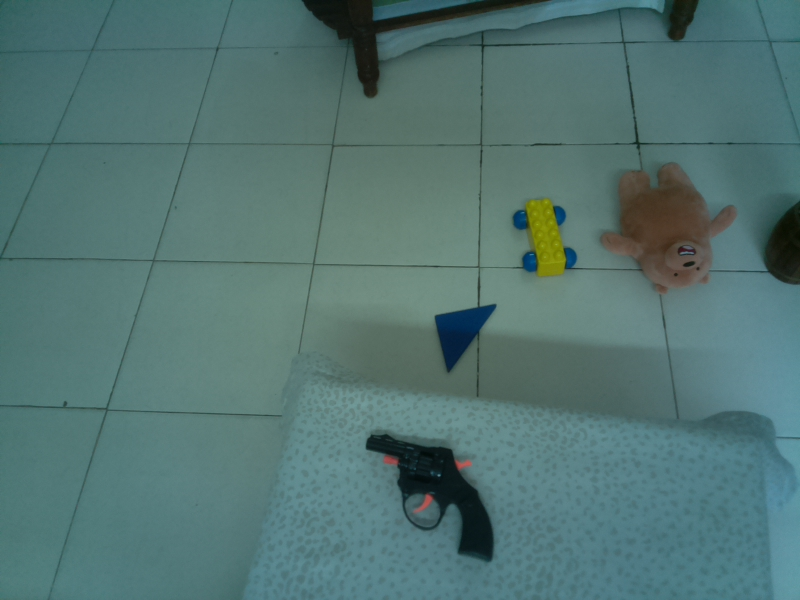Gun: (365, 433, 496, 564)
Triangle: (433, 302, 500, 376)
toy_Car: (511, 196, 579, 280)
